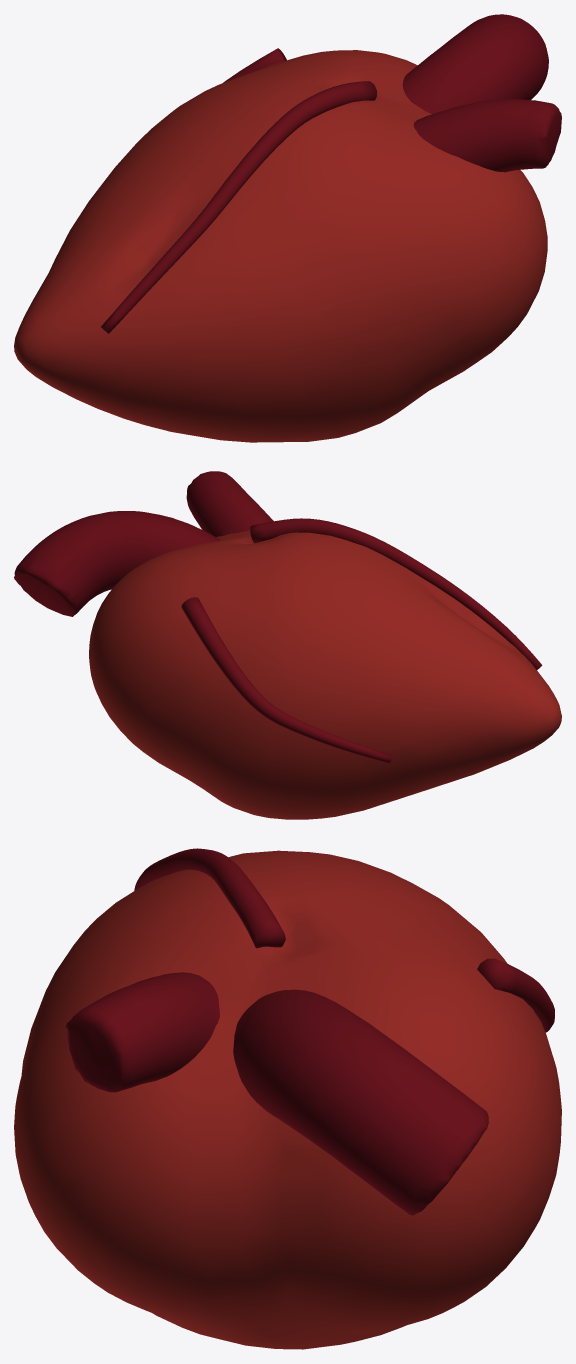
File: heart.glb
The picture shows the model from 3 angles, top to bottom: view 1: azimuth 30°, elevation 25°; view 2: azimuth 150°, elevation 25°; view 3: azimuth 270°, elevation 25°; orthographic projection. The views are drawn at different scales.
Parts seen in each view (by area): view 1: Heart, Vessels, Vessels.001; view 2: Heart, Vessels, Vessels.001; view 3: Heart, Vessels, Vessels.001.
Boxes of the visible parts, left/top/right/bottom form: Heart: left=14, top=50, right=547, bottom=442; Vessels: left=402, top=14, right=561, bottom=172; Vessels.001: left=101, top=48, right=376, bottom=333; Heart: left=89, top=530, right=561, bottom=819; Vessels: left=14, top=471, right=273, bottom=616; Vessels.001: left=181, top=518, right=542, bottom=762; Heart: left=14, top=850, right=561, bottom=1349; Vessels: left=66, top=972, right=488, bottom=1215; Vessels.001: left=134, top=848, right=554, bottom=1032.
Bounding box in the file's own units: 1.99 × 1.08 × 1.17.
